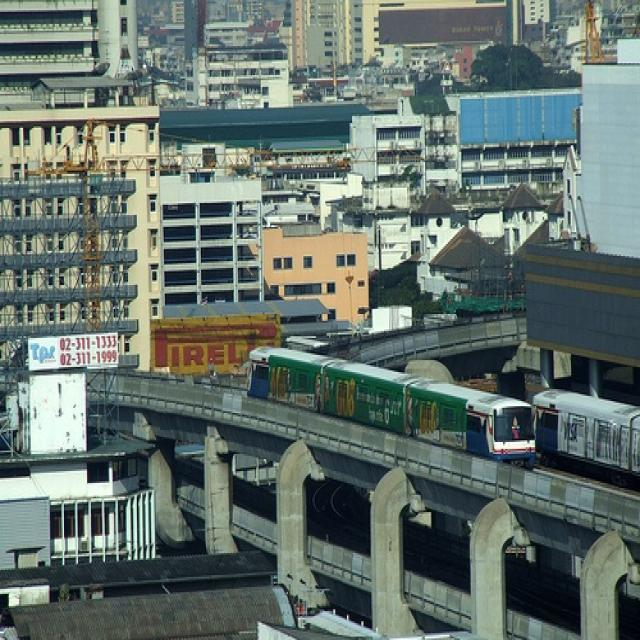train: (247, 344, 539, 464), (534, 387, 640, 484)
